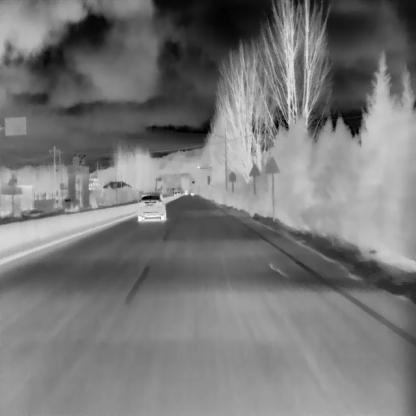car: (137, 195, 166, 220)
